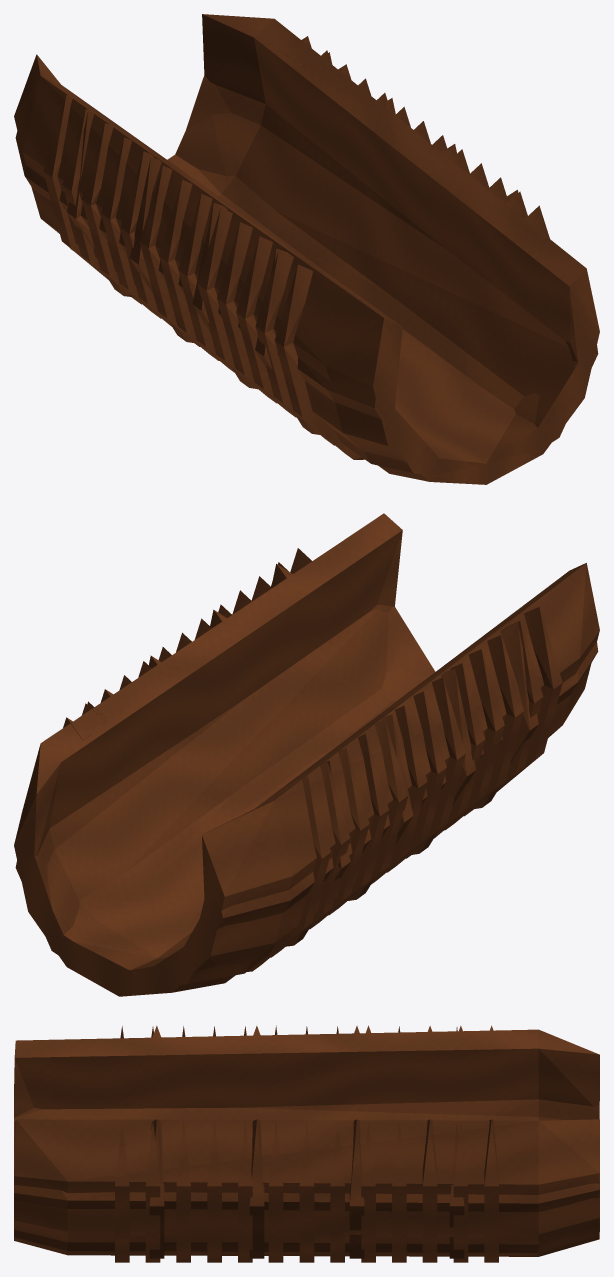
The model's file is 870_pump.glb.
The picture shows the model from 3 angles, top to bottom: view 1: azimuth 30°, elevation 25°; view 2: azimuth 150°, elevation 25°; view 3: azimuth 270°, elevation 25°; orthographic projection. The views are drawn at different scales.
Visible parts, largest first — view 1: handguard__870_pump_LOD0_RAID_Secondary_Original_wood, handguard__870_pump_LOD1_RAID_Secondary_Original_wood; view 2: handguard__870_pump_LOD0_RAID_Secondary_Original_wood, handguard__870_pump_LOD1_RAID_Secondary_Original_wood; view 3: handguard__870_pump_LOD0_RAID_Secondary_Original_wood, handguard__870_pump_LOD1_RAID_Secondary_Original_wood.
Boxes of the visible parts, x1=… form: handguard__870_pump_LOD0_RAID_Secondary_Original_wood: x1=14, y1=14, x2=599, y2=484; handguard__870_pump_LOD1_RAID_Secondary_Original_wood: x1=15, y1=14, x2=598, y2=484; handguard__870_pump_LOD0_RAID_Secondary_Original_wood: x1=14, y1=513, x2=599, y2=996; handguard__870_pump_LOD1_RAID_Secondary_Original_wood: x1=15, y1=515, x2=598, y2=985; handguard__870_pump_LOD0_RAID_Secondary_Original_wood: x1=14, y1=1025, x2=599, y2=1262; handguard__870_pump_LOD1_RAID_Secondary_Original_wood: x1=14, y1=1025, x2=599, y2=1258.
Bounding box in the file's own units: 0.1053 × 0.081 × 0.2401.
1 material, 1 textured.
